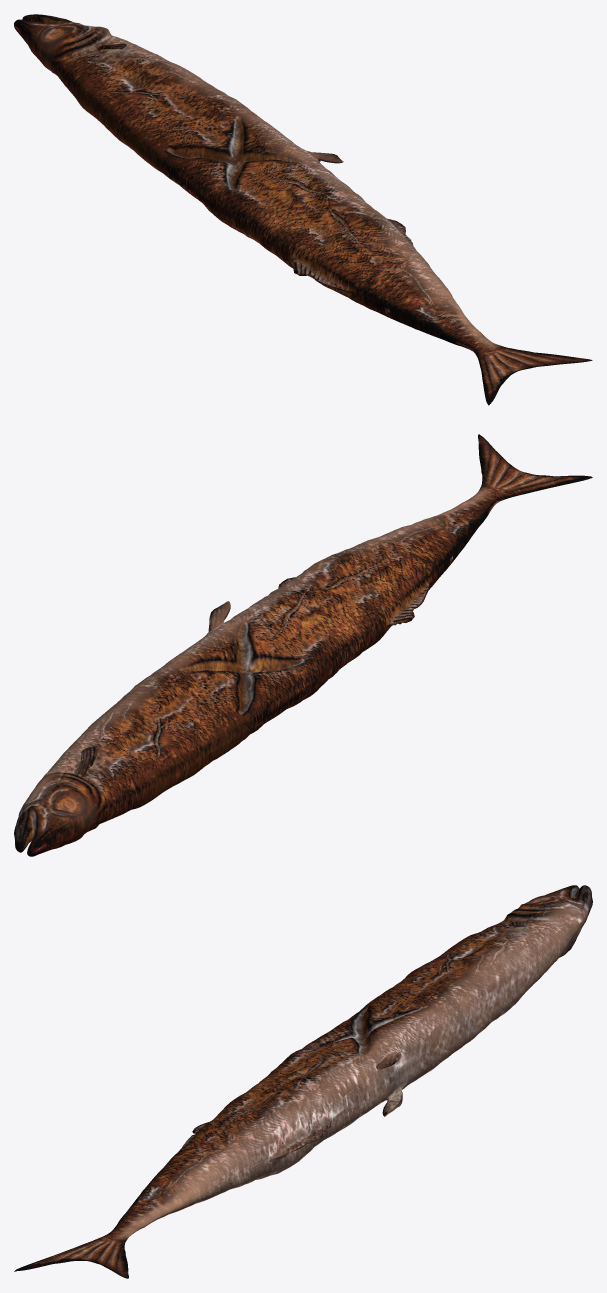
The picture shows the model from 3 angles, top to bottom: view 1: azimuth 30°, elevation 25°; view 2: azimuth 150°, elevation 25°; view 3: azimuth 330°, elevation 25°; orthographic projection. The views are drawn at different scales.
Parts seen in each view (by area): view 1: Retopo_body.001; view 2: Retopo_body.001; view 3: Retopo_body.001.
Part boxes in pixels (x1,y1,x2,y2): Retopo_body.001: [14, 14, 592, 405]; Retopo_body.001: [14, 434, 592, 856]; Retopo_body.001: [14, 885, 592, 1278].
Bounding box in the file's own units: 0.6356 × 0.3083 × 4.57.
Materials: 1 (1 with a texture image).
